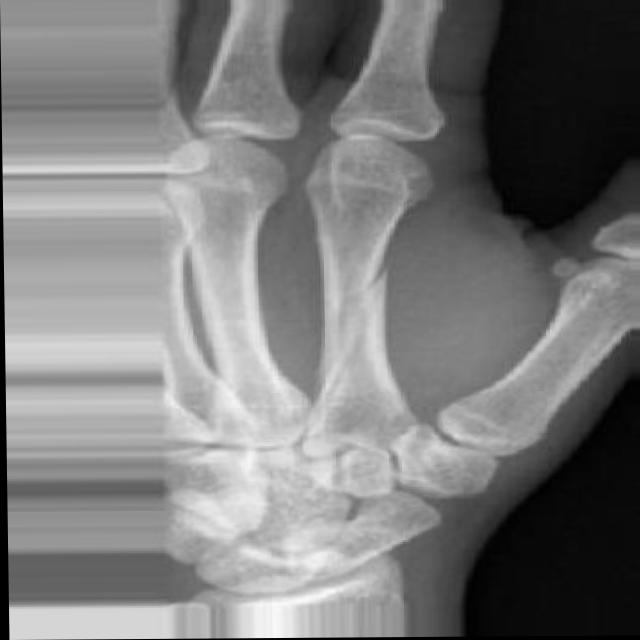fracture: (331, 266, 404, 322)
